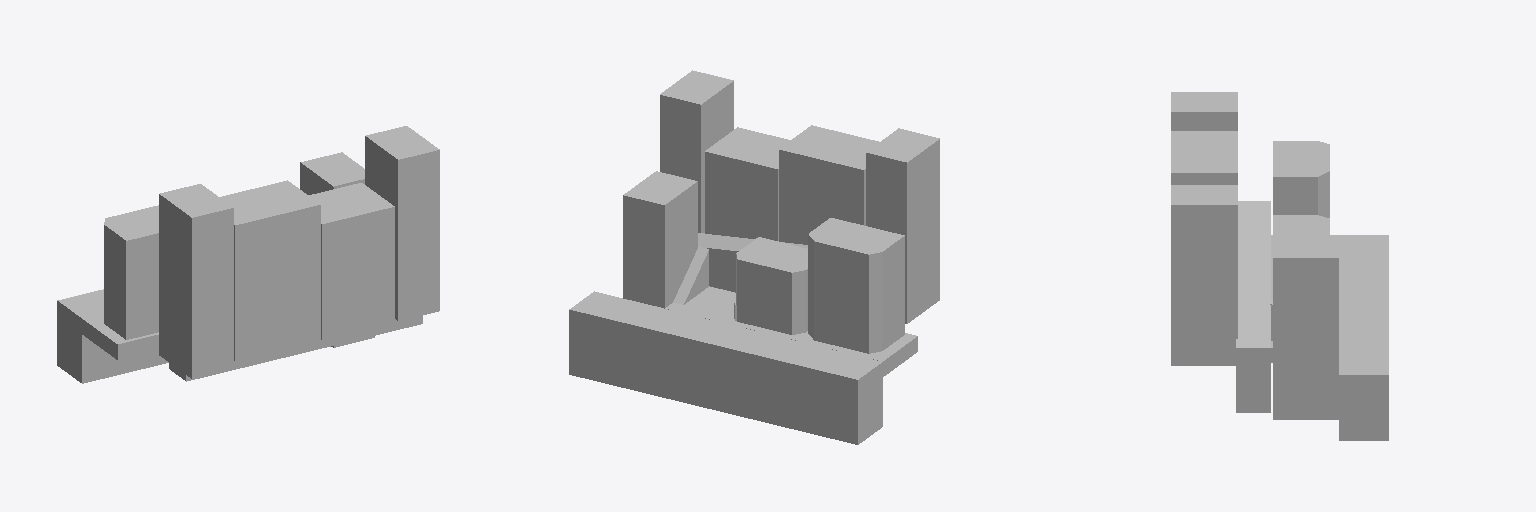
File: Street2.obj
3 renders of one model, left to right at view 1: azimuth 30°, elevation 25°; view 2: azimuth 150°, elevation 25°; view 3: azimuth 270°, elevation 25°, orthographic.
Visible parts, largest first — view 1: Street2; view 2: Street2; view 3: Street2.
Boxes of the visible parts, x1=… form: Street2: x1=57, y1=126, x2=439, y2=383; Street2: x1=569, y1=70, x2=939, y2=444; Street2: x1=1171, y1=92, x2=1388, y2=440.
Bounding box in the file's own units: 106 × 80.52 × 69.32.